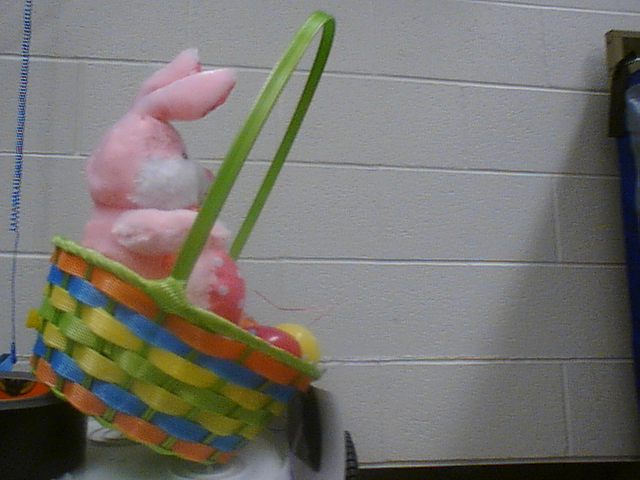bunny: (25, 6, 343, 472)
